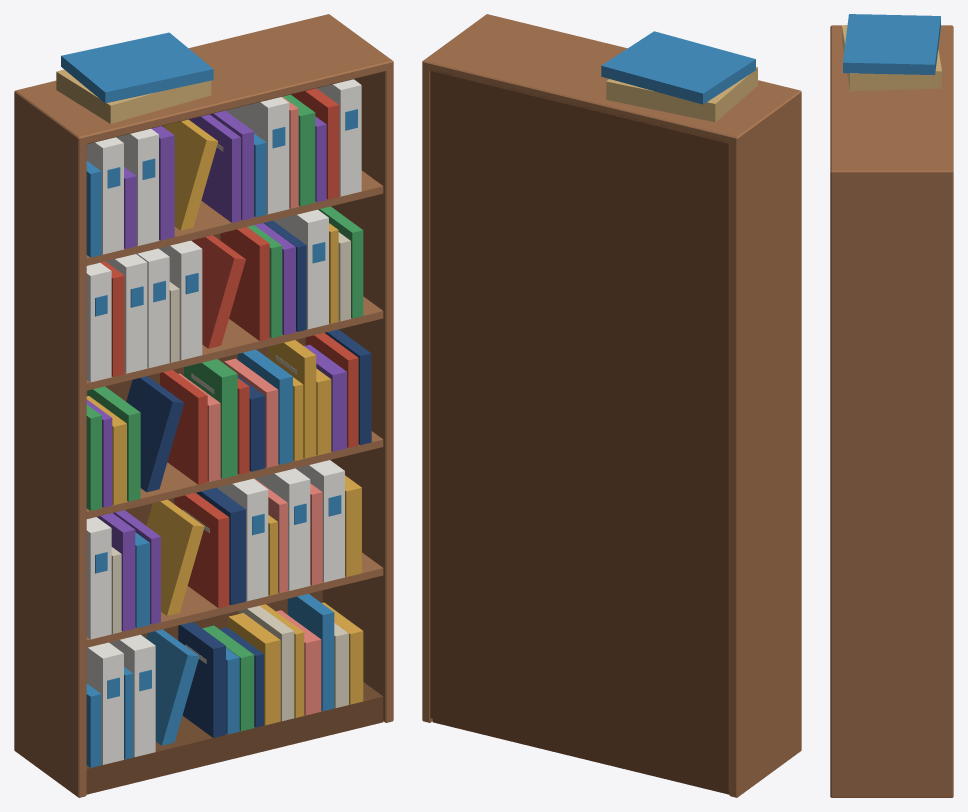
File: bookshelf.glb
3 views of the same model, side by side, from view 1: azimuth 30°, elevation 25°; view 2: azimuth 150°, elevation 25°; view 3: azimuth 270°, elevation 25° (orthographic). The views are drawn at different scales.
Parts seen in each view (by area): view 1: Bookshelf; view 2: Bookshelf; view 3: Bookshelf.
Part boxes in pixels (box(x1,y1,x2,y2)): Bookshelf: box(14, 14, 393, 797); Bookshelf: box(422, 14, 801, 797); Bookshelf: box(830, 14, 953, 797).
Size of the model in its own units: 0.9 by 1.88 by 0.32.
